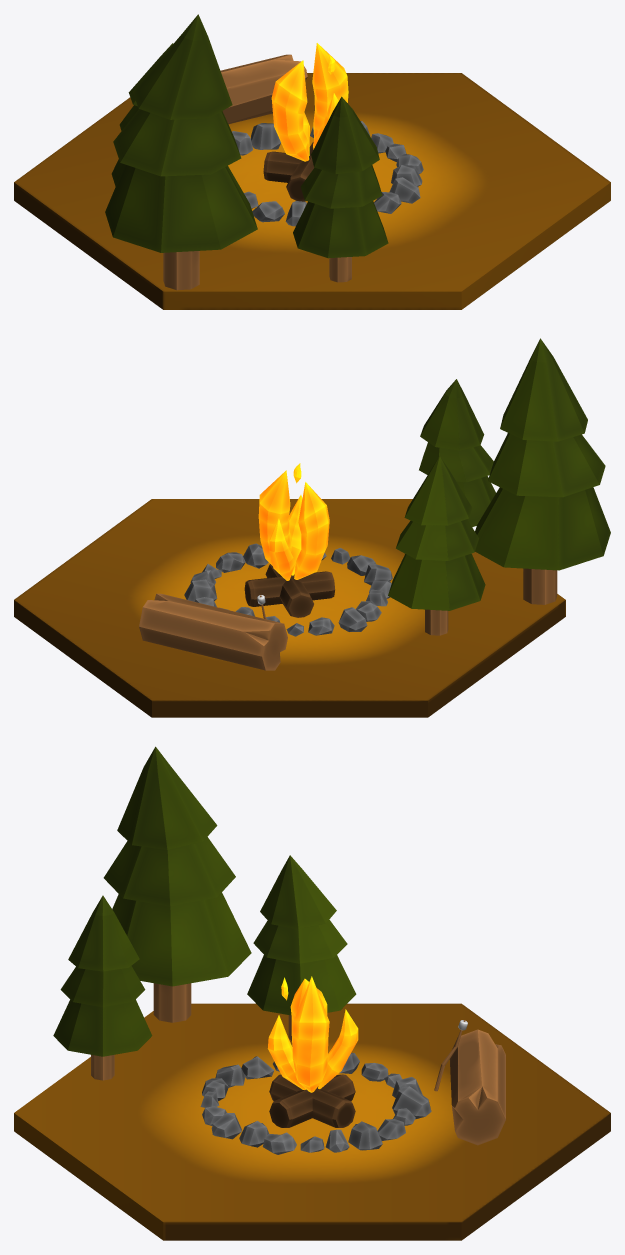
The picture shows the model from 3 angles, top to bottom: view 1: azimuth 30°, elevation 25°; view 2: azimuth 150°, elevation 25°; view 3: azimuth 270°, elevation 25°; orthographic projection. The views are drawn at different scales.
Parts seen in each view (by area): view 1: campfire; view 2: campfire; view 3: campfire.
Boxes of the visible parts, <box> form: campfire: <box>14,14,610,309</box>; campfire: <box>14,338,610,717</box>; campfire: <box>14,746,610,1240</box>.
Size of the model in its own units: 43.22 by 24.36 by 45.29.
Materials: 1 (1 with a texture image).
